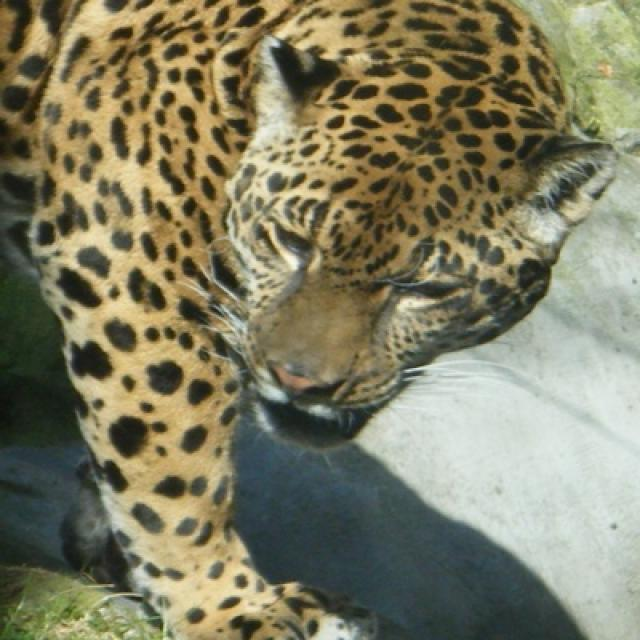Jaguar: (0, 0, 618, 638)
